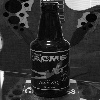beer: (28, 1, 71, 95)
